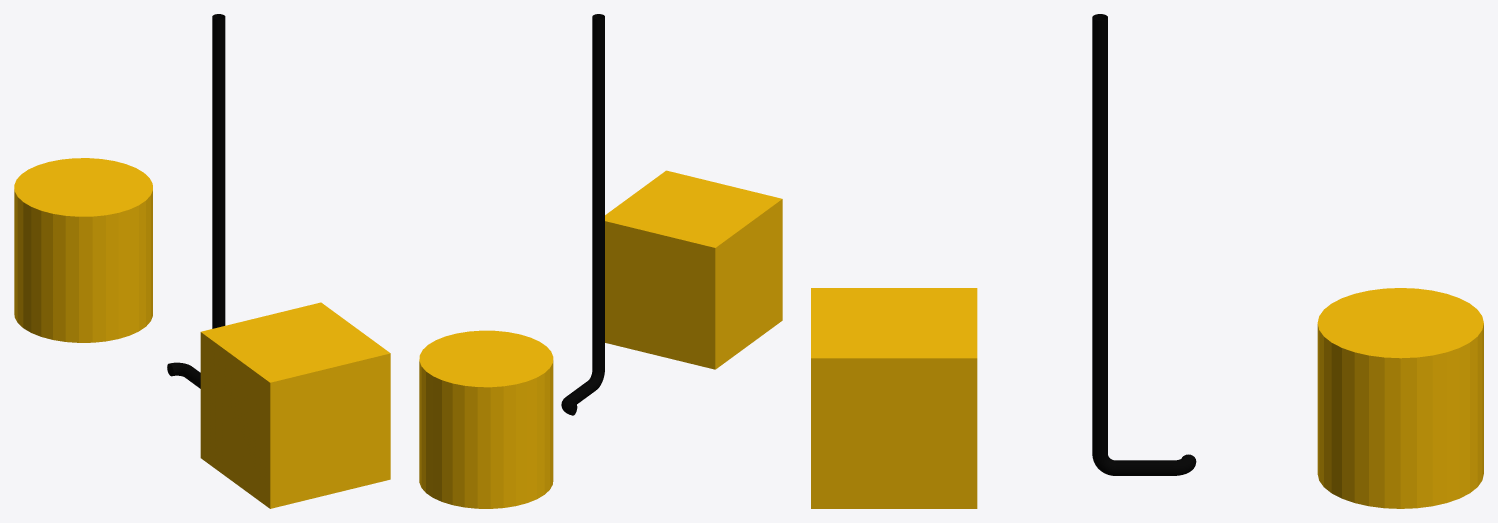
The model's file is simple.glb.
The picture shows the model from 3 angles, left to right: view 1: azimuth 30°, elevation 25°; view 2: azimuth 150°, elevation 25°; view 3: azimuth 270°, elevation 25°; orthographic projection. The views are drawn at different scales.
Visible parts, largest first — view 1: Cube, Cylinder, tube; view 2: Cube, Cylinder, tube; view 3: Cube, Cylinder, tube.
Boxes of the visible parts, x1,y1,x2,y2 form: Cube: (200, 302, 390, 508); Cylinder: (14, 158, 152, 342); tube: (167, 14, 225, 388); Cube: (605, 170, 782, 369); Cylinder: (419, 330, 553, 508); tube: (561, 14, 604, 415); Cube: (811, 288, 977, 508); Cylinder: (1317, 288, 1483, 508); tube: (1092, 14, 1196, 475).
Bounding box in the file's own units: 2 × 6.13 × 8.09.
